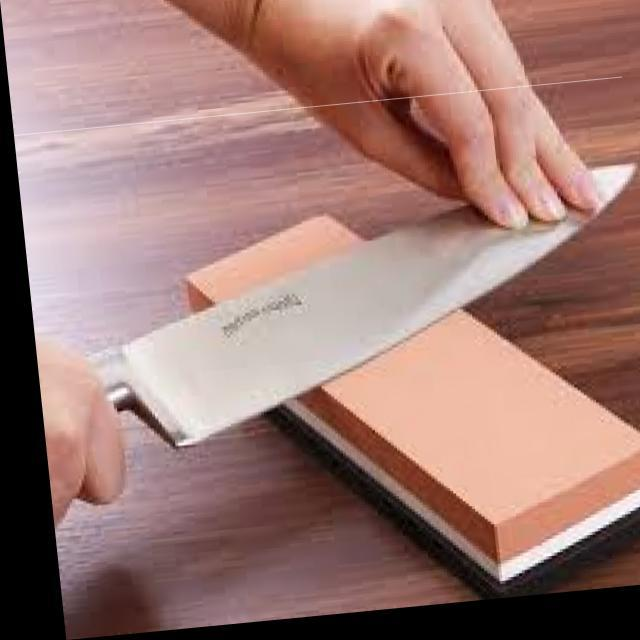knife: (80, 163, 640, 451)
